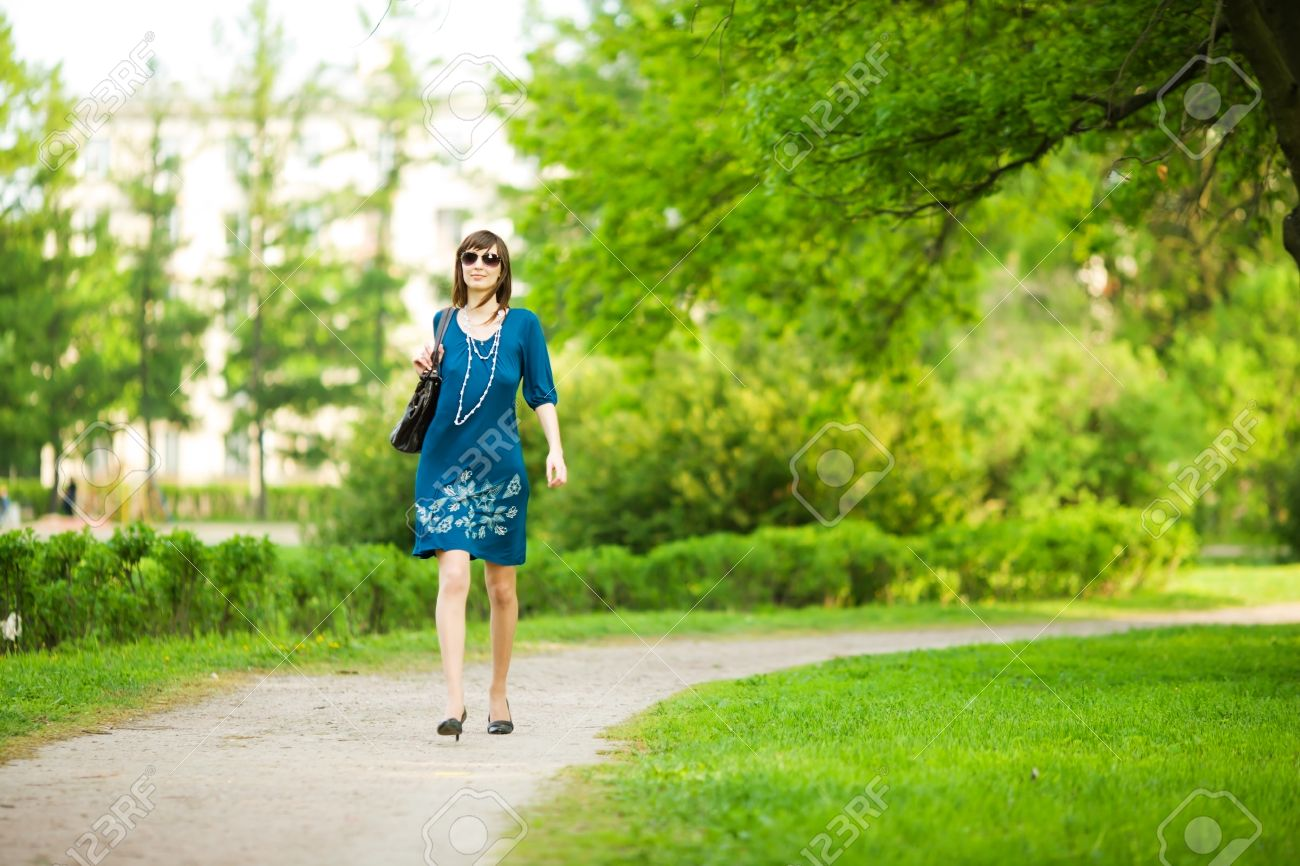Person: (385, 224, 571, 779)
